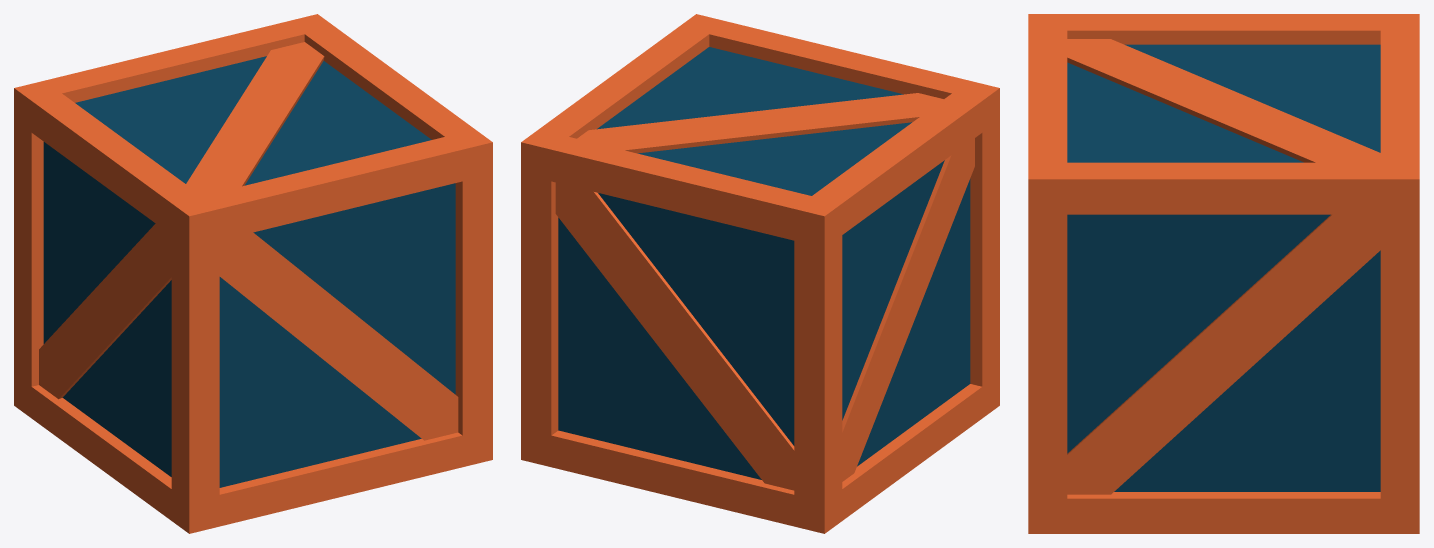
File: boxes_2.fbx
3 renders of one model, left to right at view 1: azimuth 30°, elevation 25°; view 2: azimuth 150°, elevation 25°; view 3: azimuth 270°, elevation 25°, orthographic. The views are drawn at different scales.
Parts seen in each view (by area): view 1: boxes_2; view 2: boxes_2; view 3: boxes_2.
Boxes of the visible parts, bbox=[...] form: boxes_2: bbox=[14, 14, 492, 533]; boxes_2: bbox=[521, 14, 999, 533]; boxes_2: bbox=[1028, 14, 1419, 533].
Bounding box in the file's own units: 0.8 × 0.8 × 0.8.
